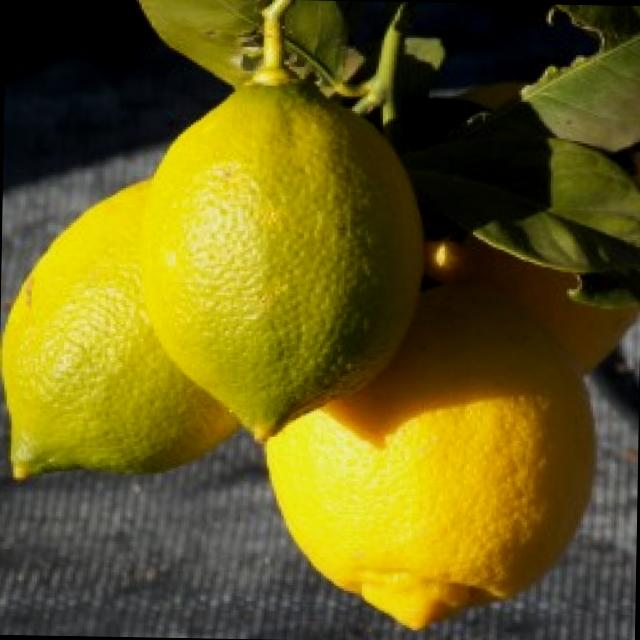lemon: (257, 267, 604, 640), (155, 74, 423, 449), (0, 160, 242, 487)
